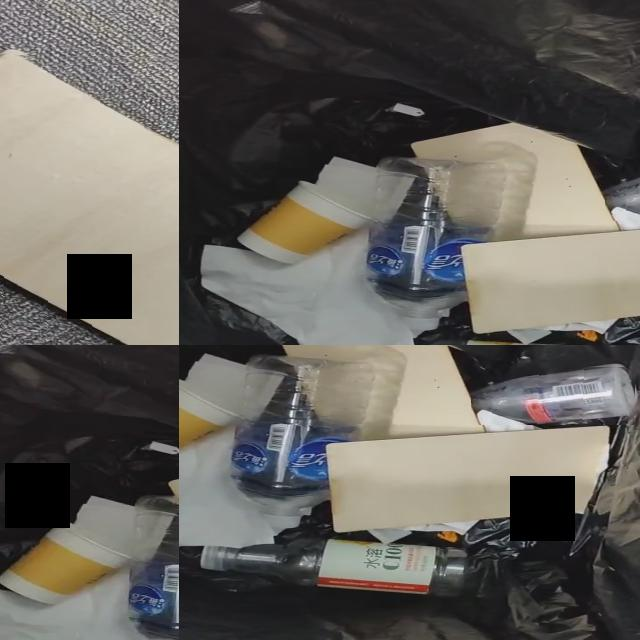bottle: (232, 356, 371, 534), (367, 158, 507, 332), (201, 534, 476, 596), (471, 366, 636, 425), (129, 498, 179, 640)
carton: (0, 54, 179, 345), (327, 427, 608, 530), (412, 124, 619, 242), (283, 345, 484, 440), (463, 231, 640, 332)
dixie_cup: (0, 523, 133, 604), (238, 182, 370, 262), (179, 380, 235, 449)
paper: (201, 228, 413, 345), (179, 428, 275, 548), (0, 573, 151, 640), (70, 496, 139, 558), (183, 354, 247, 416), (314, 158, 376, 217), (508, 318, 617, 344), (368, 519, 481, 544), (480, 410, 539, 432), (613, 208, 640, 230), (614, 208, 640, 227)
